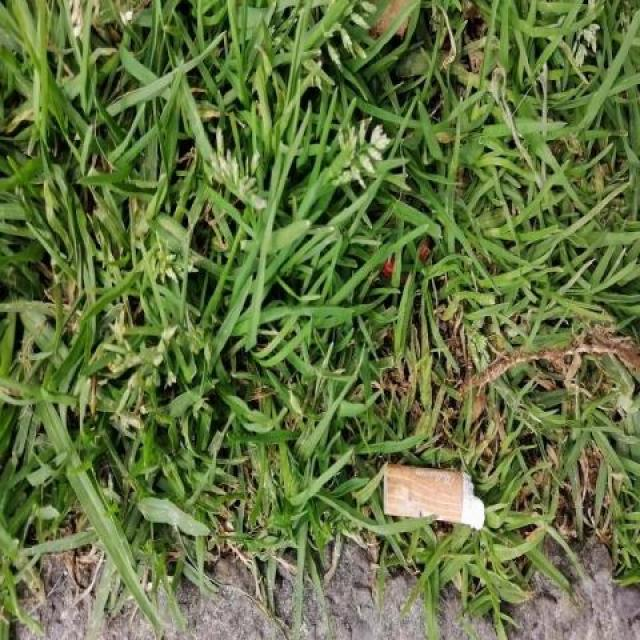non-organic waste: (378, 460, 489, 533)
